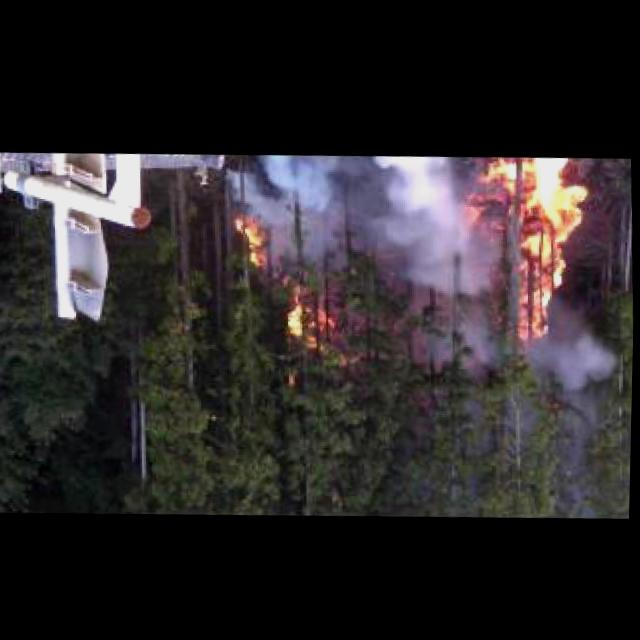helmet: (464, 149, 600, 346), (293, 280, 340, 345), (236, 214, 270, 266)
no_helmet: (452, 146, 609, 360), (220, 196, 361, 389)
